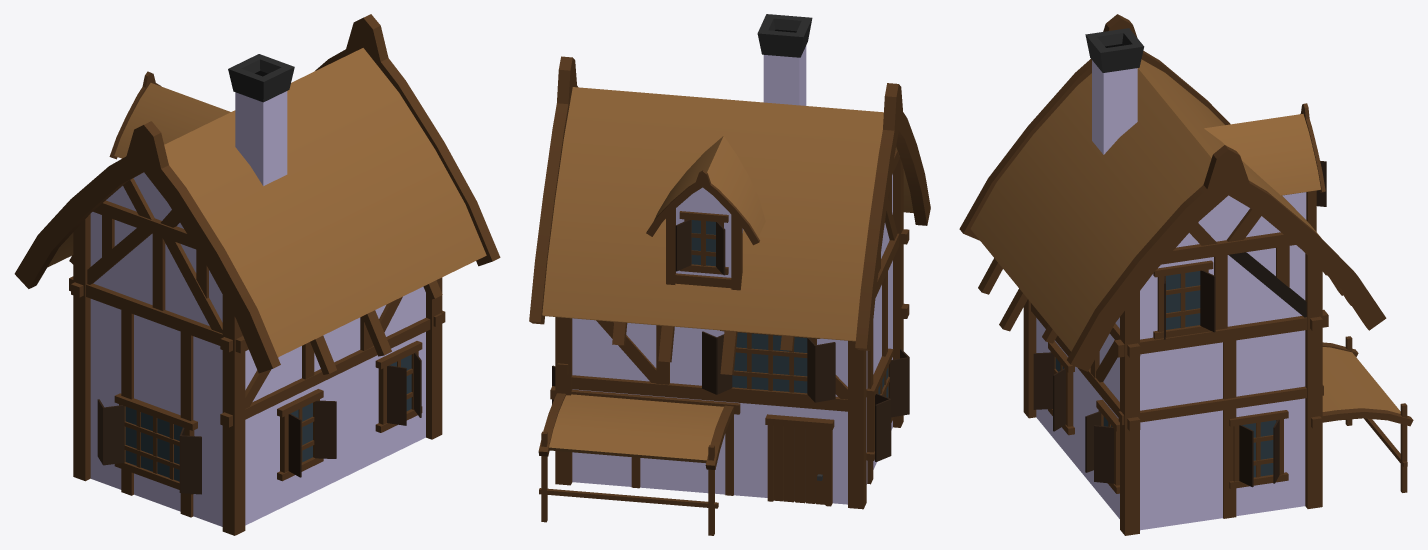
File: business_west.obj
3 renders of one model, left to right at view 1: azimuth 30°, elevation 25°; view 2: azimuth 150°, elevation 25°; view 3: azimuth 270°, elevation 25°, orthographic. The views are drawn at different scales.
Visible parts, largest first — view 1: pCube6453_Untitled.030; view 2: pCube6453_Untitled.030; view 3: pCube6453_Untitled.030.
Boxes of the visible parts, x1,y1,x2,y2 form: pCube6453_Untitled.030: (14,14,500,535); pCube6453_Untitled.030: (529,14,930,535); pCube6453_Untitled.030: (959,14,1413,535).
Bounding box in the file's own units: 12.15 × 12.69 × 12.83.
